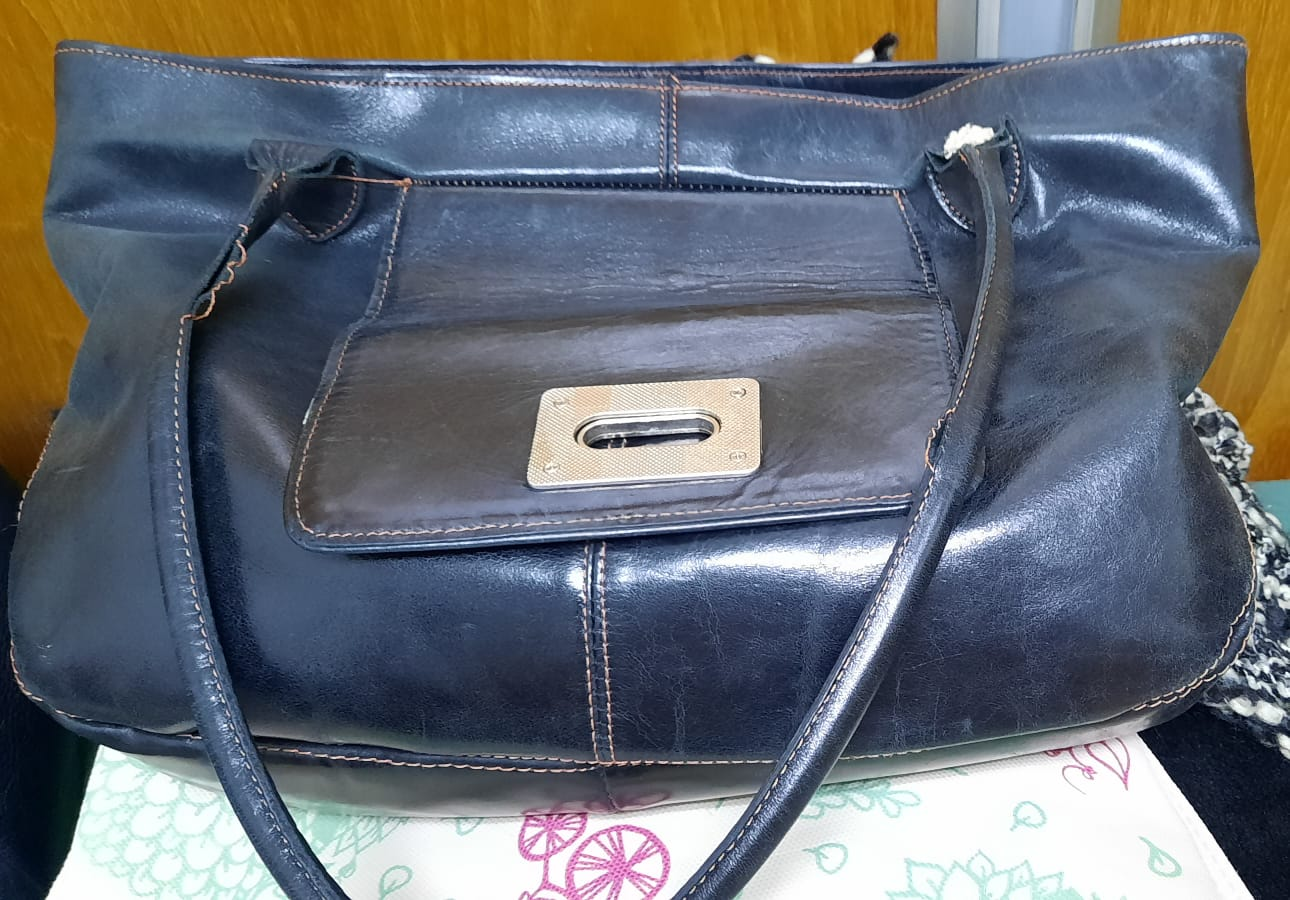cartera: (31, 29, 1265, 900)
cuero: (341, 181, 1065, 708)
